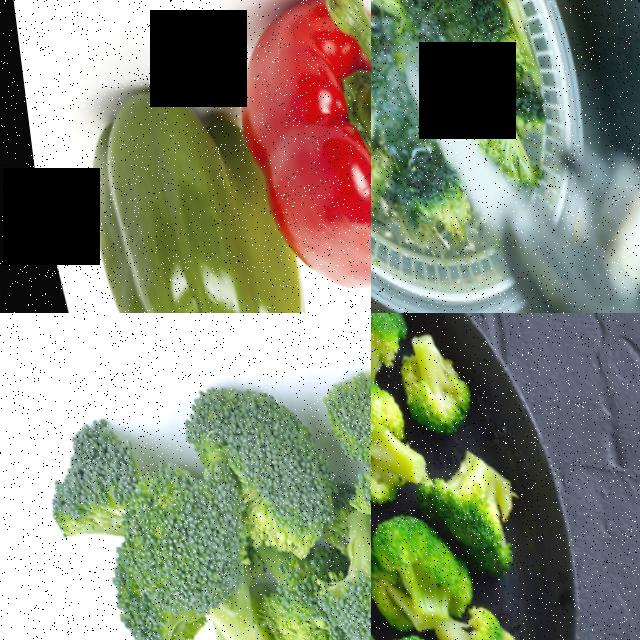-: (88, 452, 250, 636), (2, 395, 145, 556), (222, 381, 328, 531), (316, 343, 371, 602), (308, 492, 371, 639)
bell pepper: (51, 66, 295, 313), (216, 0, 371, 247)
broccoli: (421, 426, 531, 553), (386, 315, 476, 428), (371, 515, 451, 626), (371, 390, 434, 505), (442, 597, 533, 640)
